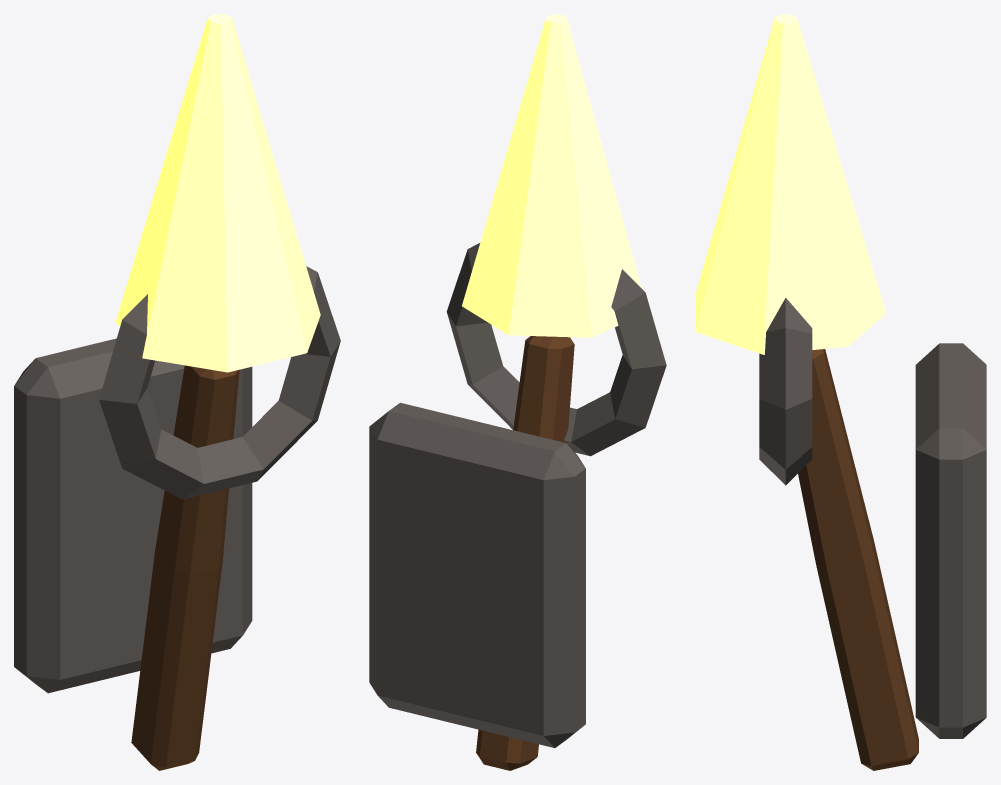
File: torch_sconce.glb
3 views of the same model, side by side, from view 1: azimuth 30°, elevation 25°; view 2: azimuth 150°, elevation 25°; view 3: azimuth 270°, elevation 25° (orthographic). The views are drawn at different scales.
Visible parts, largest first — view 1: GEO_iron, ANIM_flame, GEO_wooddark; view 2: GEO_iron, ANIM_flame, GEO_wooddark; view 3: ANIM_flame, GEO_iron, GEO_wooddark.
Boxes of the visible parts, bbox=[...] form: GEO_iron: bbox=[14, 266, 340, 693]; ANIM_flame: bbox=[115, 14, 320, 372]; GEO_wooddark: bbox=[131, 365, 239, 770]; GEO_iron: bbox=[369, 243, 666, 747]; ANIM_flame: bbox=[462, 14, 641, 337]; GEO_wooddark: bbox=[476, 336, 574, 770]; ANIM_flame: bbox=[695, 14, 885, 354]; GEO_iron: bbox=[759, 298, 986, 738]; GEO_wooddark: bbox=[798, 349, 918, 770].
Bounding box in the file's own units: 0.45 × 1.39 × 0.4932.
